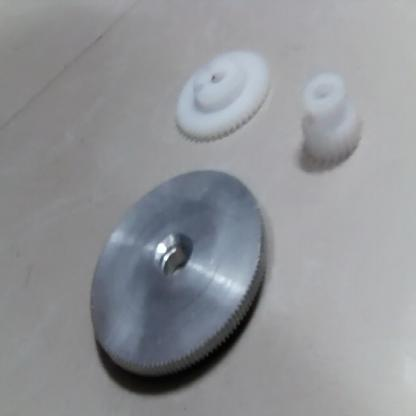FOD: (74, 174, 266, 388), (167, 54, 276, 152), (294, 74, 364, 164)
